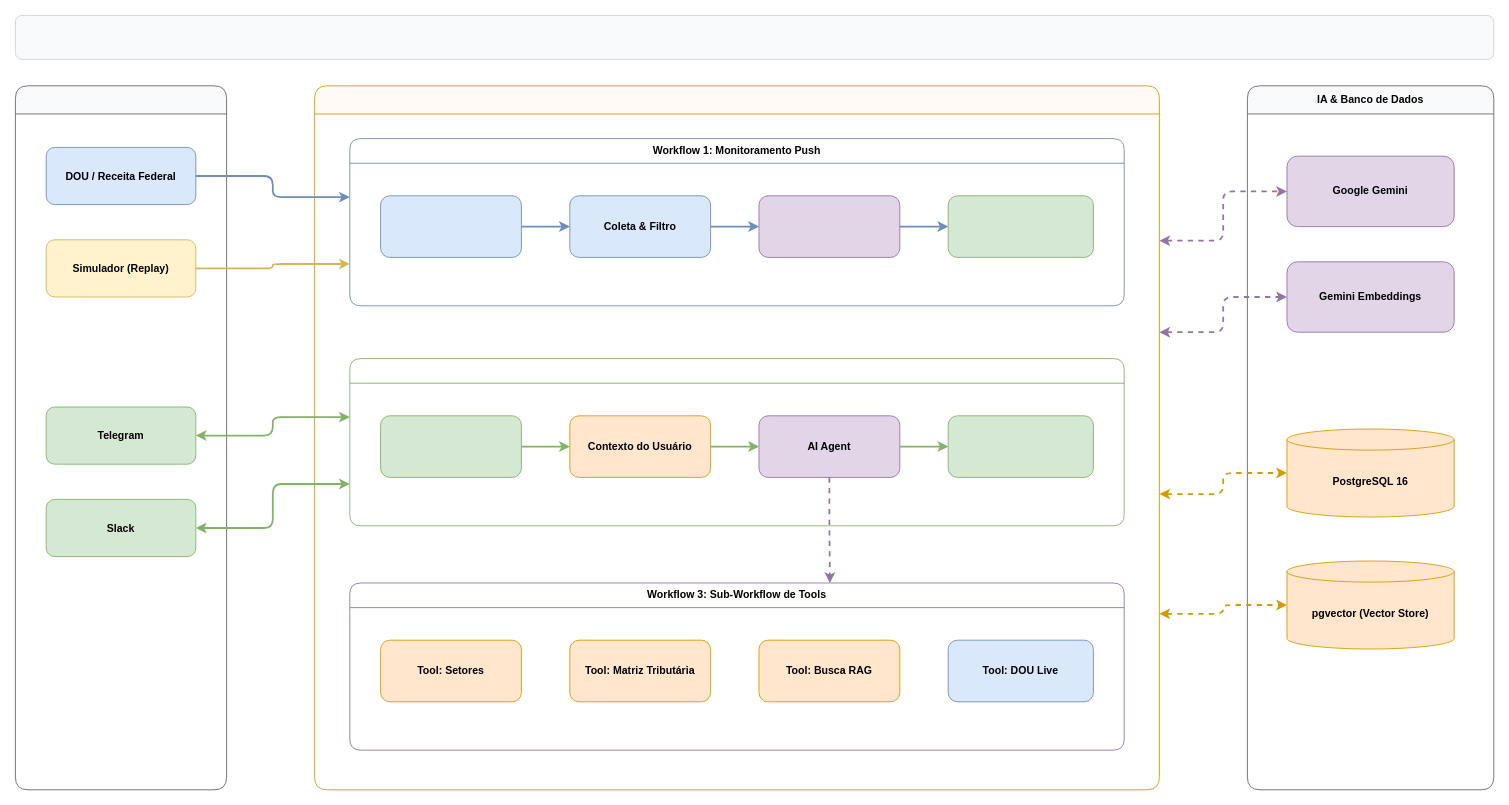
Image size: 1509x805. Some labels were removed from this diagram. Here are the shapes that lost their labels. From the top down, the box of each, then its label:
(15, 15, 1494, 59): Fiscália — Arquitetura do Sistema
(380, 195, 521, 257): Gatilho Push
(758, 195, 900, 257): Triagem LLM
(947, 195, 1093, 257): Disparo de Alerta
(15, 85, 227, 790): Fontes & Canais
(380, 415, 521, 477): Gateway de Chat
(314, 85, 1159, 790): n8n (Orquestrador)
(349, 358, 1124, 526): Workflow 2: Agente Pull
(947, 415, 1093, 477): Resposta
